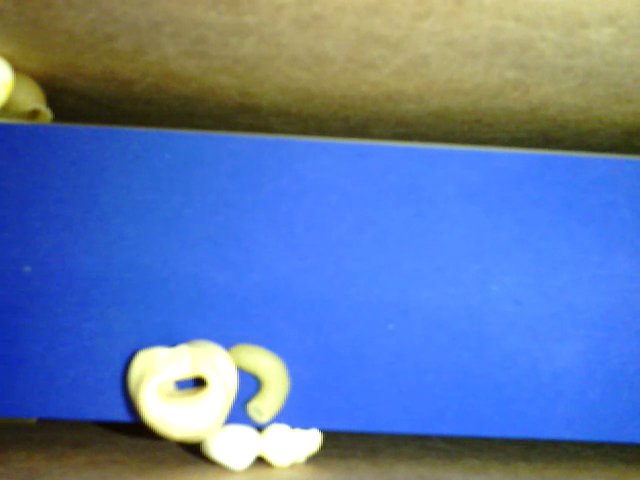elbow: (227, 339, 291, 422)
shell: (3, 73, 54, 127)
tortellini: (125, 335, 238, 445)
